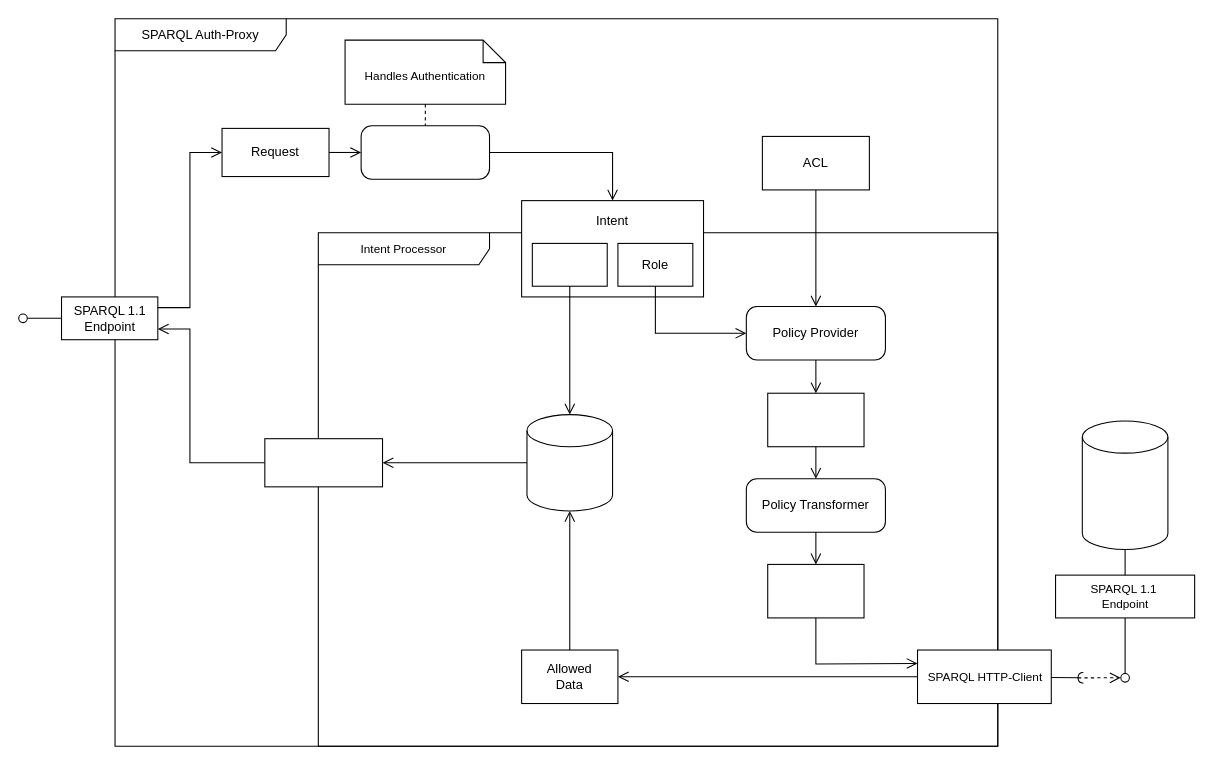
This 1213x765 diagram has some shape labels left out. Here are the shapes that lost their labels. From the top down, the centre of each, then its label:
At point (425, 152): "Intent Provider".
At point (569, 264): "Query".
At point (815, 419): "Applicable Policies".
At point (323, 462): "Query Result".
At point (569, 462): "Oxigraph Store".
At point (1124, 484): "Triplestore".
At point (815, 590): "Allowed Data Query".
